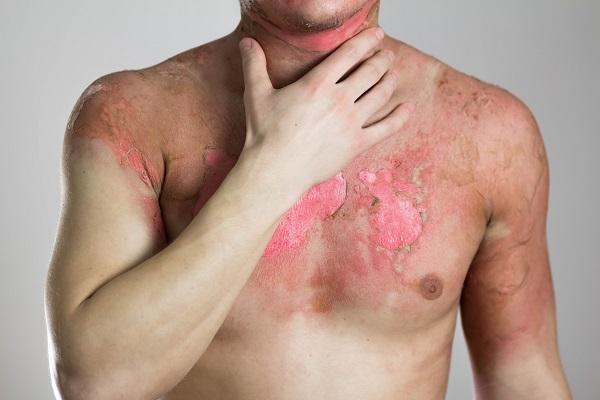burned-skin: (268, 0, 561, 361), (352, 167, 427, 284), (86, 87, 164, 188)
